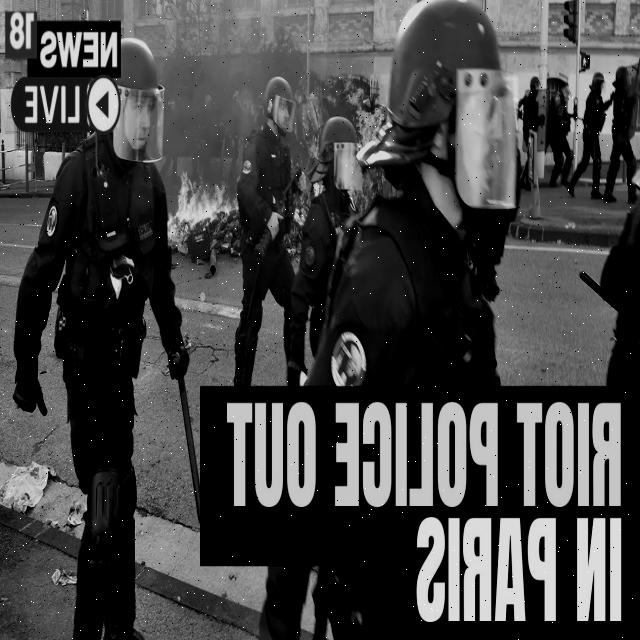police: (0, 31, 221, 639), (328, 16, 522, 440), (223, 61, 313, 408), (287, 107, 371, 378), (545, 46, 640, 239)
